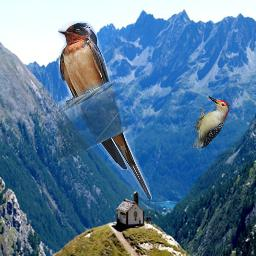Swallow: (58, 21, 152, 200)
Woodpecker: (193, 96, 229, 148)
